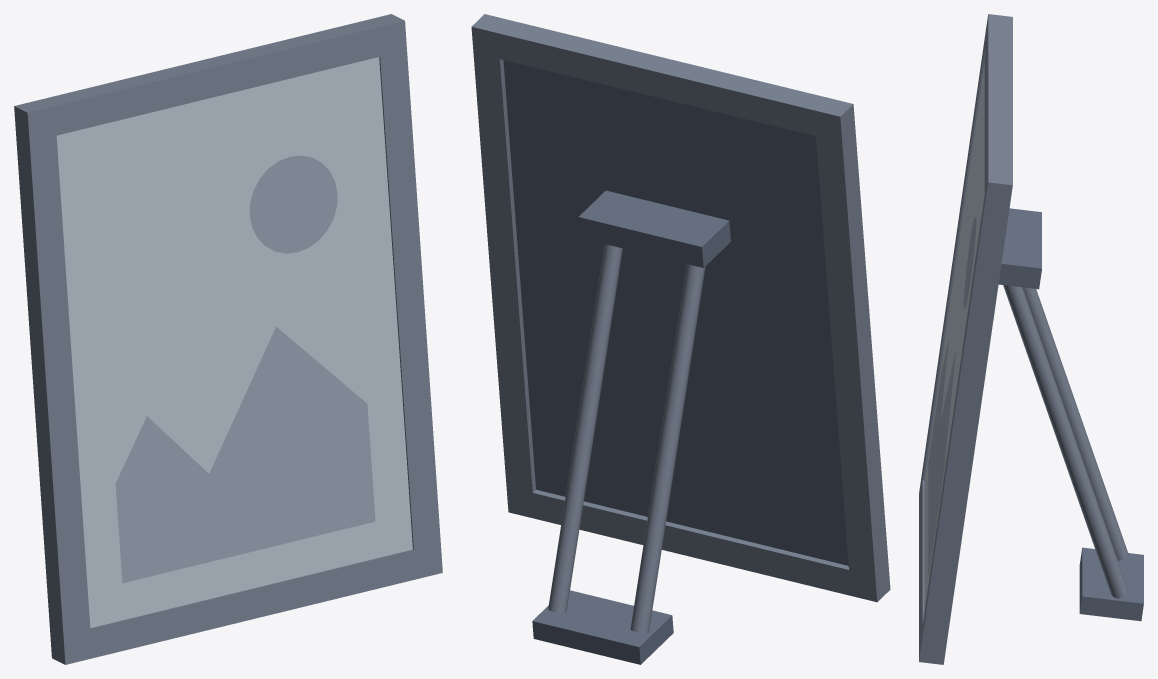
The model's file is 桌面相框.glb.
3 views of the same model, side by side, from view 1: azimuth 30°, elevation 25°; view 2: azimuth 150°, elevation 25°; view 3: azimuth 270°, elevation 25° (orthographic). The views are drawn at different scales.
Parts seen in each view (by area): view 1: desktop-frame-light, desktop-frame-frame, desktop-frame-soft, desktop-frame-accent; view 2: desktop-frame-dark, desktop-frame-frame; view 3: desktop-frame-frame, desktop-frame-dark, desktop-frame-light, desktop-frame-soft, desktop-frame-accent.
Boxes of the visible parts, box(x1,y1,x2,y2) form: desktop-frame-light: box(56, 57, 412, 627); desktop-frame-frame: box(14, 14, 442, 664); desktop-frame-soft: box(115, 326, 375, 582); desktop-frame-accent: box(249, 155, 337, 253); desktop-frame-dark: box(503, 60, 848, 664); desktop-frame-frame: box(471, 14, 890, 632); desktop-frame-frame: box(919, 14, 1128, 664); desktop-frame-dark: box(998, 208, 1143, 621); desktop-frame-light: box(924, 64, 984, 611); desktop-frame-soft: box(928, 342, 955, 576); desktop-frame-accent: box(963, 217, 976, 308).
Size of the model in its own units: 0.224 by 0.3093 by 0.1265.
